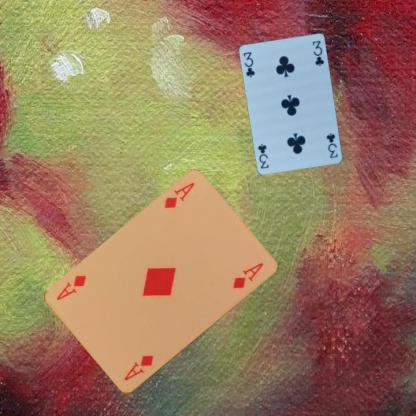3c: (324, 130, 339, 160), (241, 49, 256, 79)
Ad: (161, 180, 196, 210), (121, 352, 155, 382)
